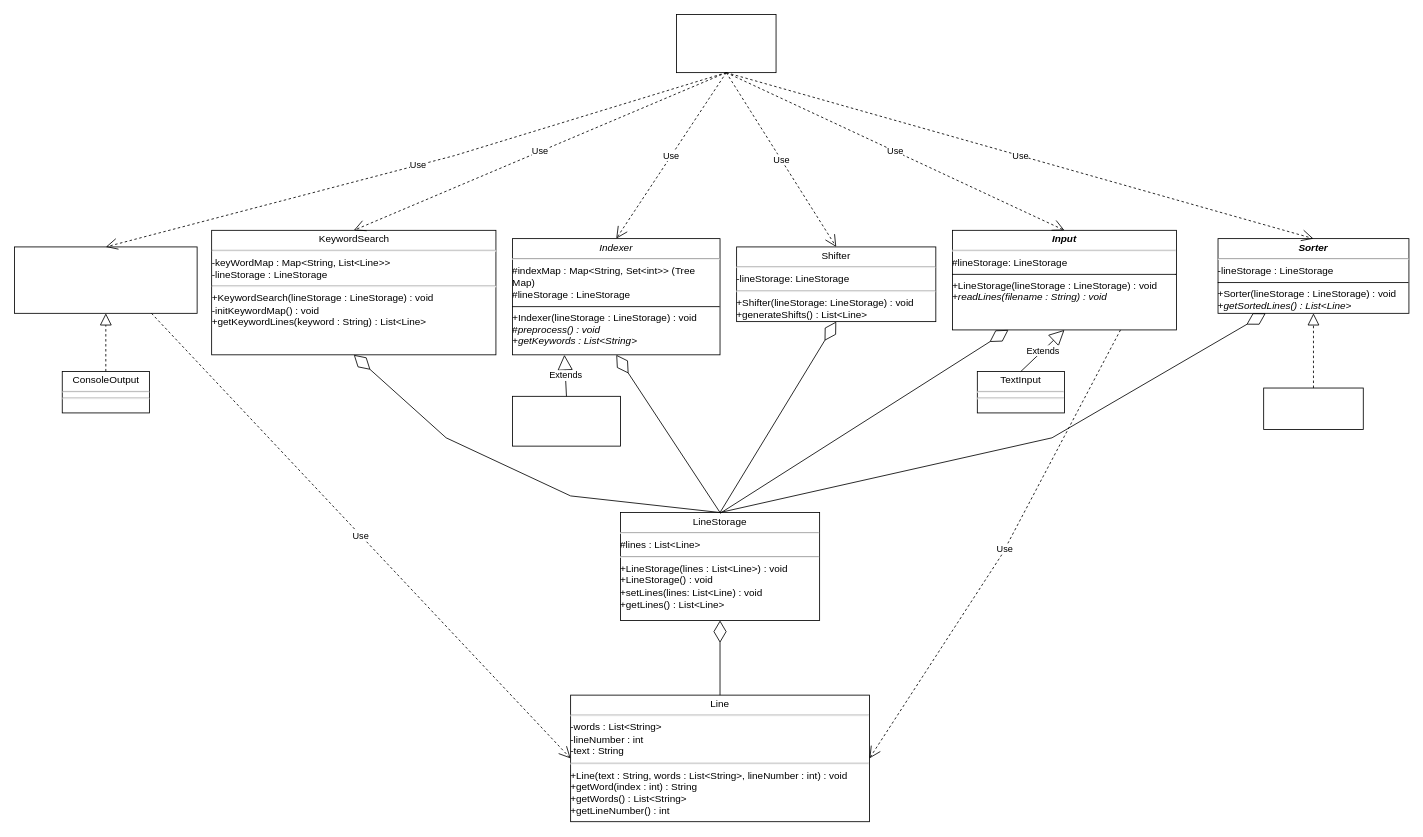
This 1423x837 diagram has some shape labels left out. The shapes that lost their labels are listed below. From the top down, each one's centre as x and y in pixels, then its label:
At (x=726, y=43): "Main".
At (x=105, y=279): "<<Interface>> Output +writeLines(lines : List<Line>) : void".
At (x=566, y=420): "GenericIndexer #preprocess() : void".
At (x=1313, y=408): "AlphabeticalSorter".
